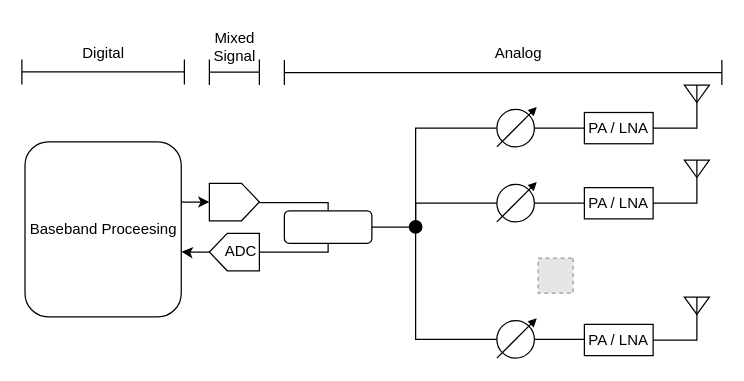
Some shapes in this 744 by 381 pixel diagram are drawn without their labels. Grey dashed boxes stand in for pictures. The shapes that lost their labels are listed below. From the top down, each one's box as (x1, y1, x2, y2) in pixels, then its label:
(208, 182, 259, 221): DAC
(283, 210, 372, 243): RF chain
